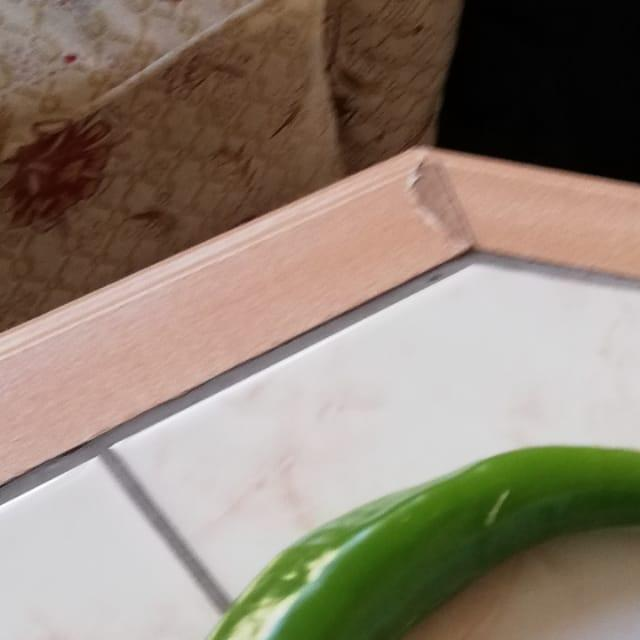chili_pepper: (41, 422, 640, 640)
